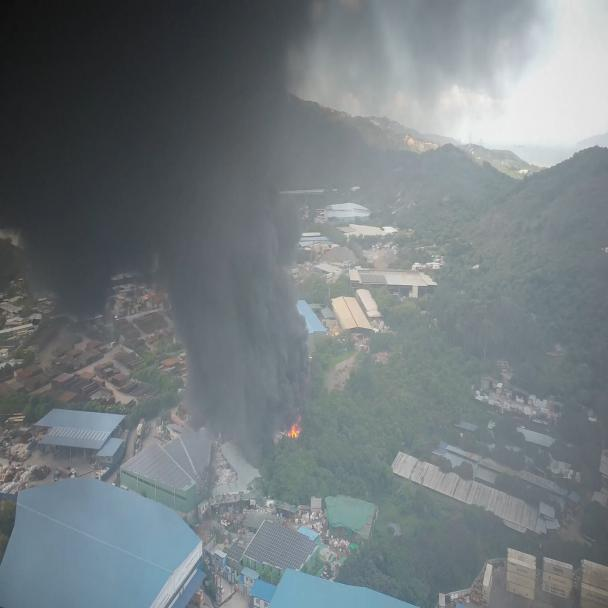Fire: (0, 0, 550, 342), (186, 353, 361, 505)
